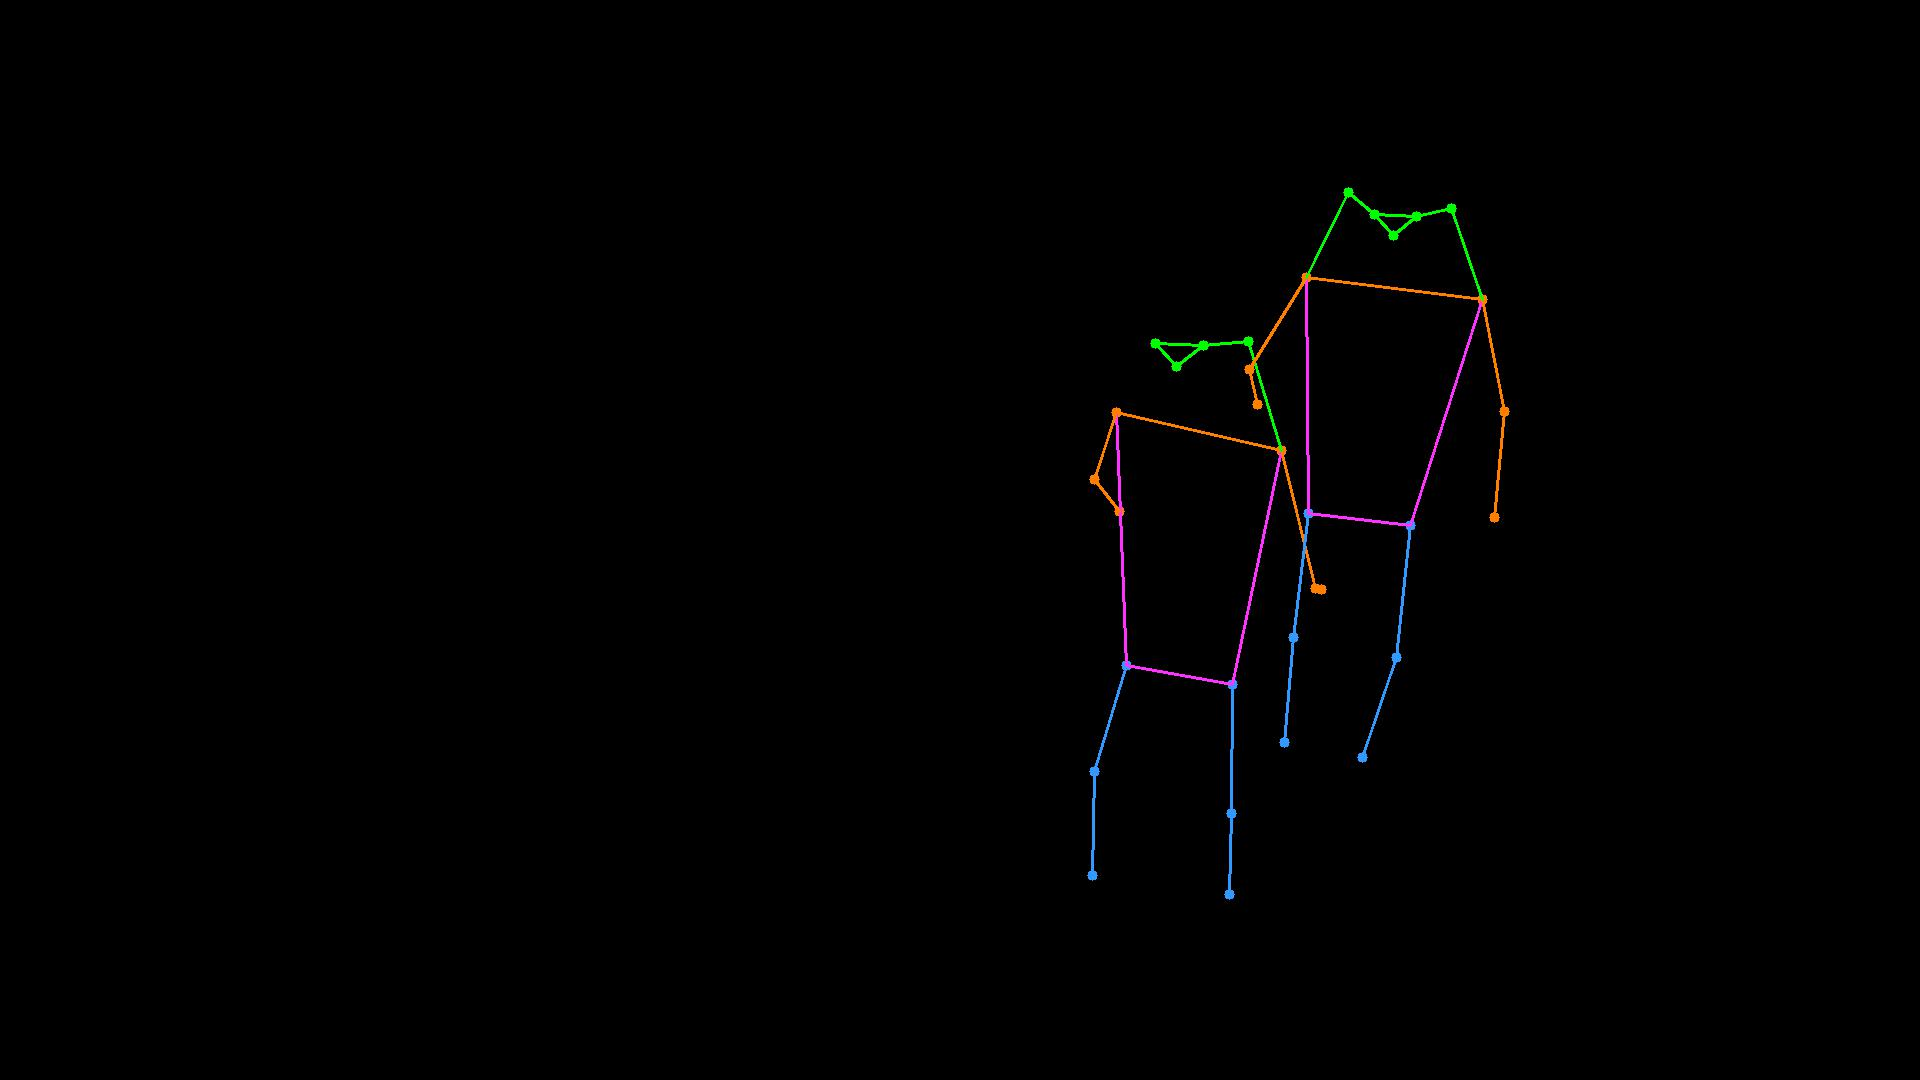normal: (1025, 149, 1571, 949)
